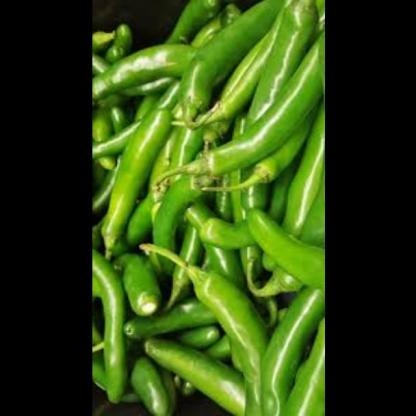hot pepper: (91, 0, 324, 416)
